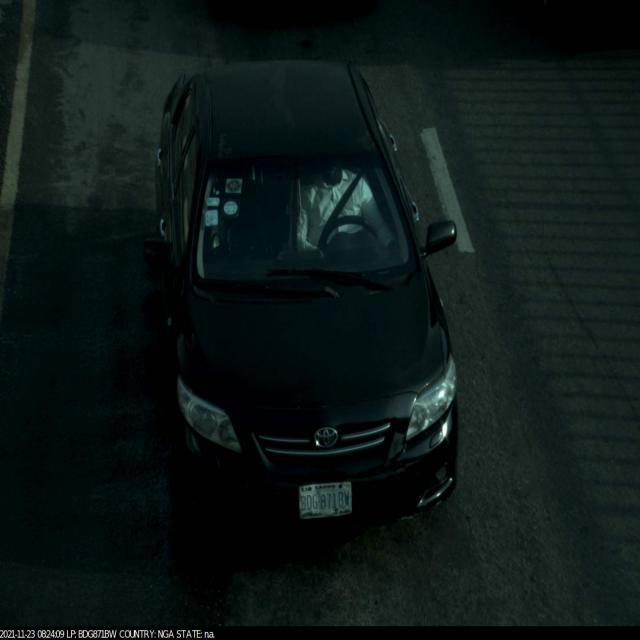windshield: (180, 133, 421, 297)
